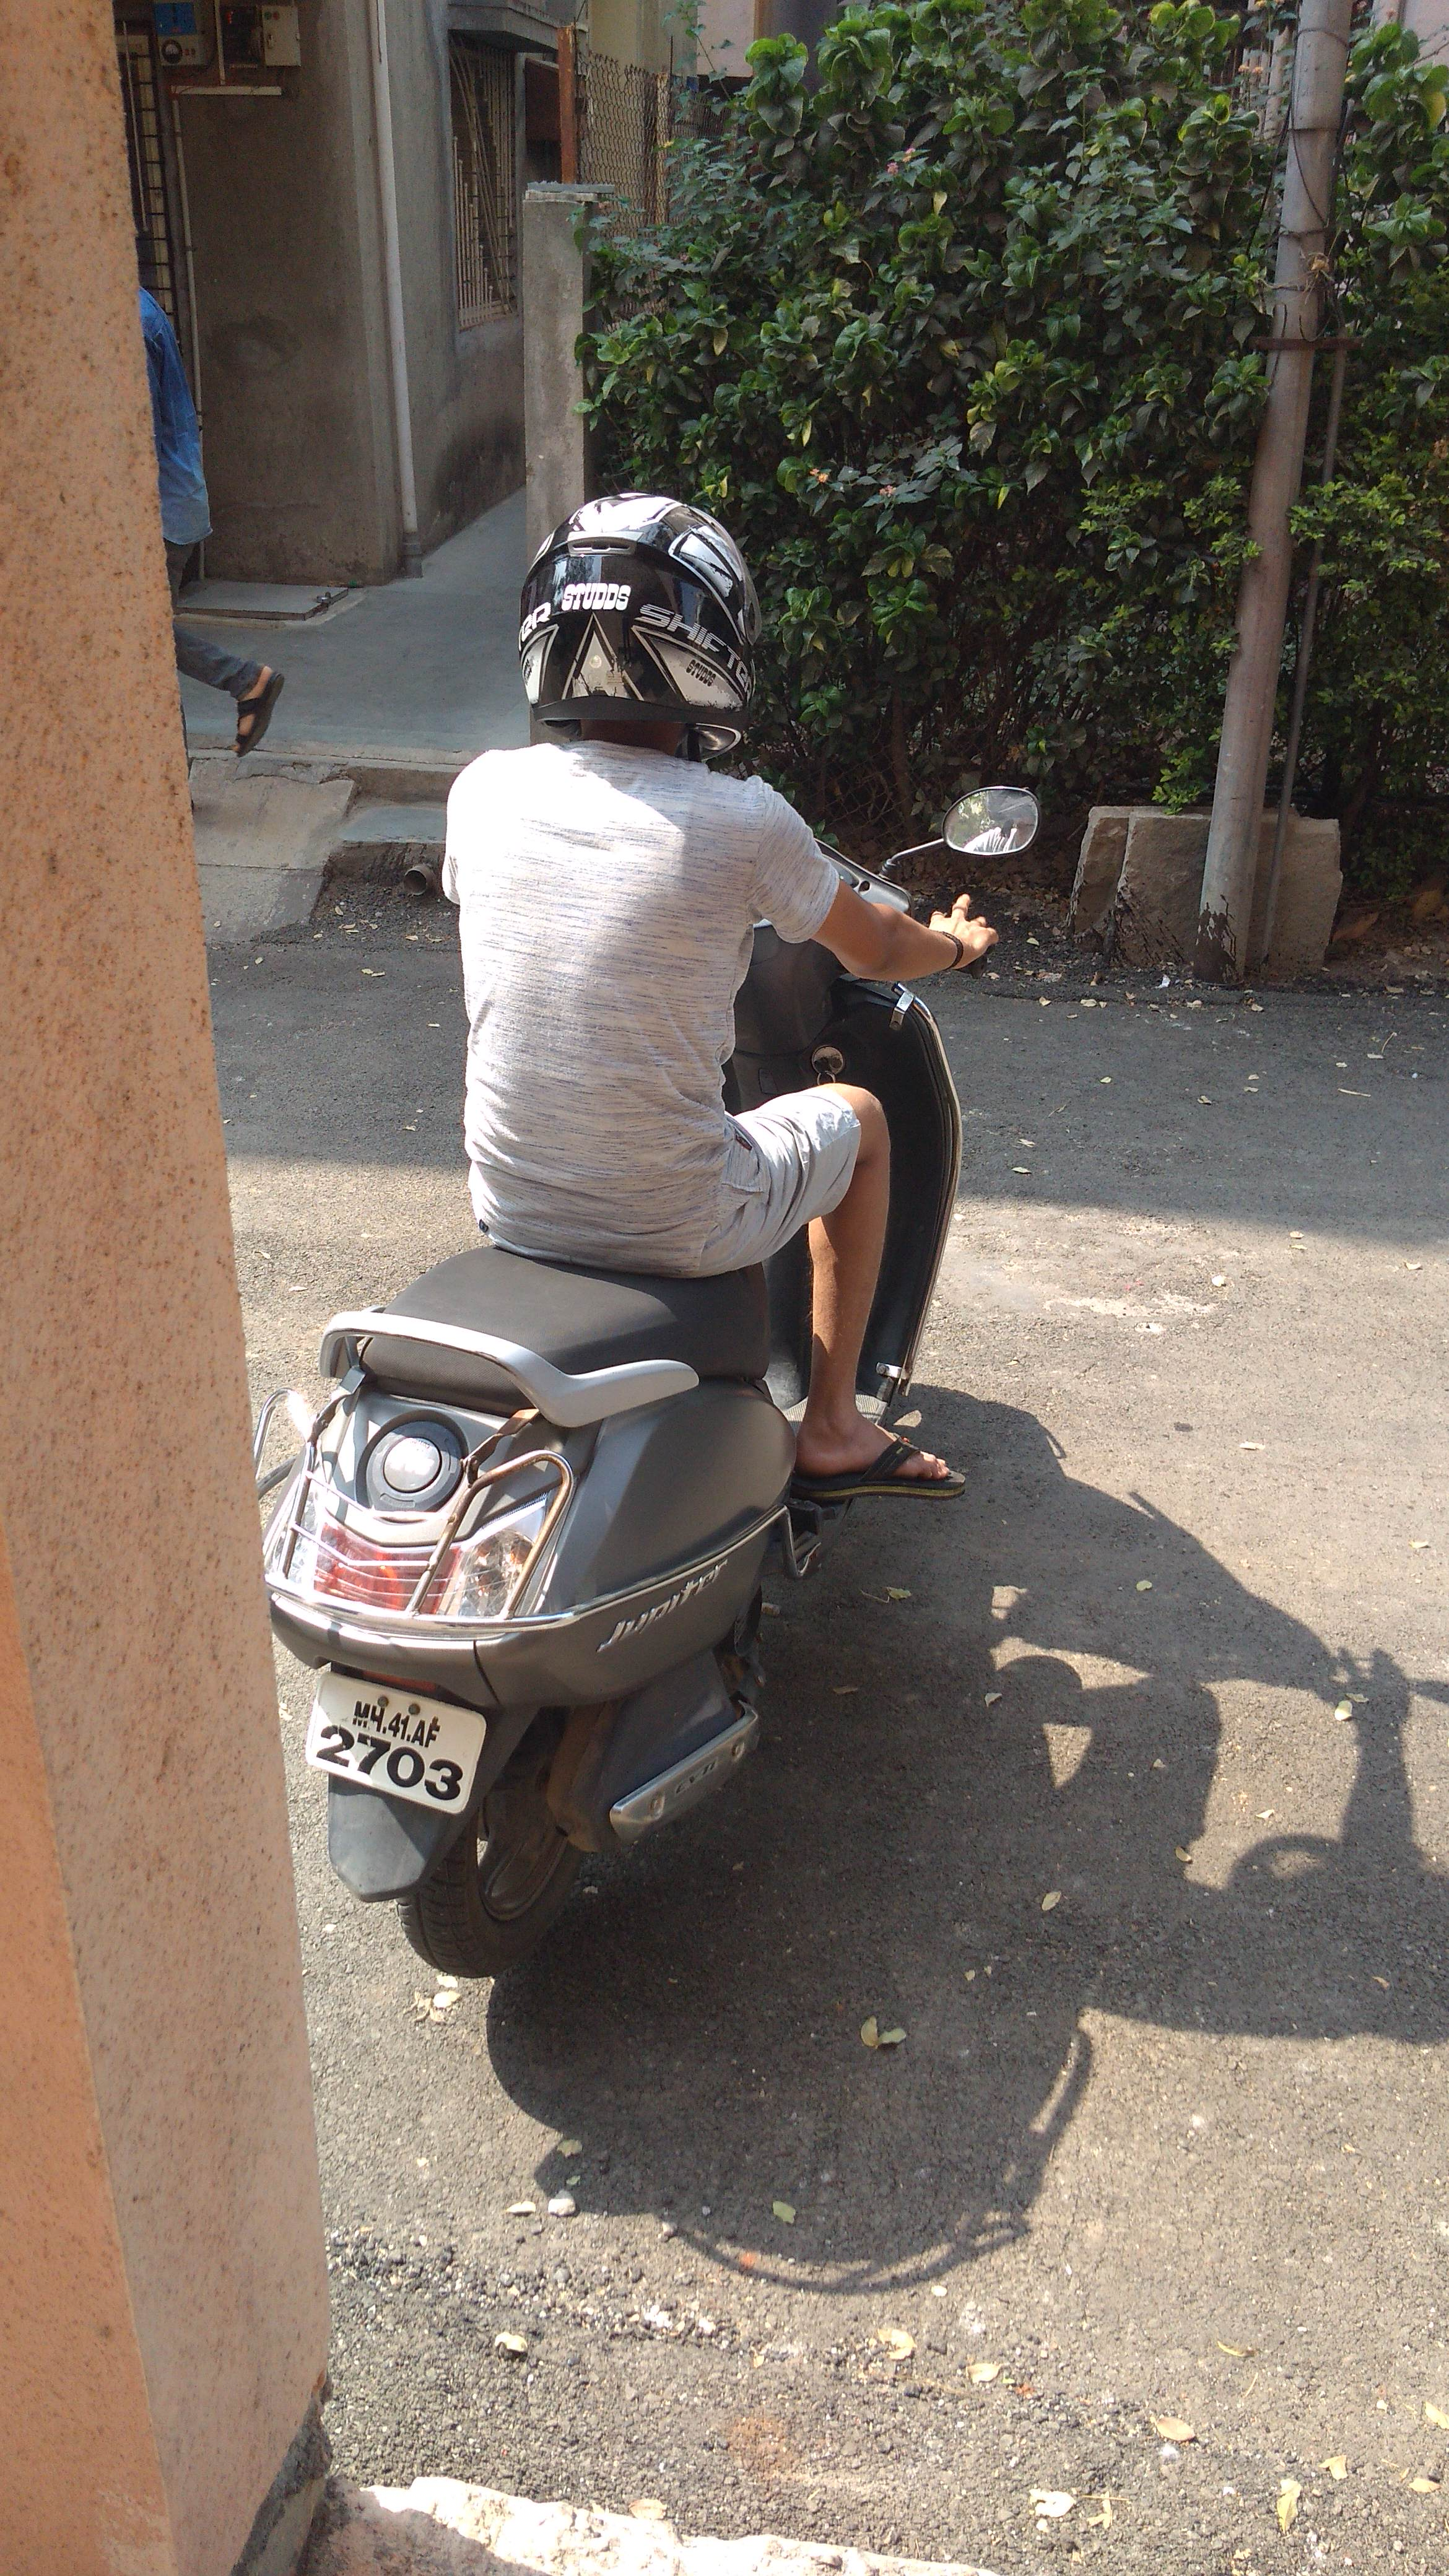helmet: (364, 474, 989, 1300)
